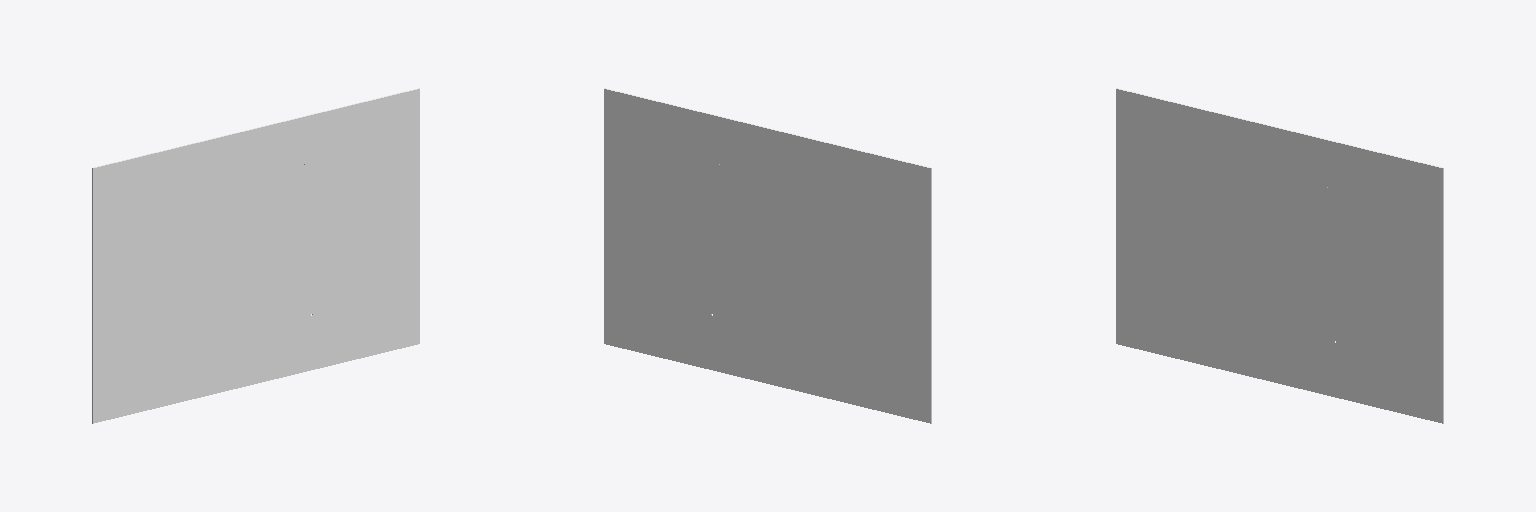
The model's file is goodnight-moon-26-goodnight-moon.obj.
3 views of the same model, side by side, from view 1: azimuth 30°, elevation 25°; view 2: azimuth 150°, elevation 25°; view 3: azimuth 330°, elevation 25° (orthographic).
Parts seen in each view (by area): view 1: goodnight-moon; view 2: goodnight-moon; view 3: goodnight-moon.
Boxes of the visible parts, x1,y1,x2,y2 form: goodnight-moon: [92, 88, 419, 423]; goodnight-moon: [604, 88, 931, 423]; goodnight-moon: [1116, 88, 1443, 423].
Size of the model in its own units: 25.6 by 19.1 by 0.1.